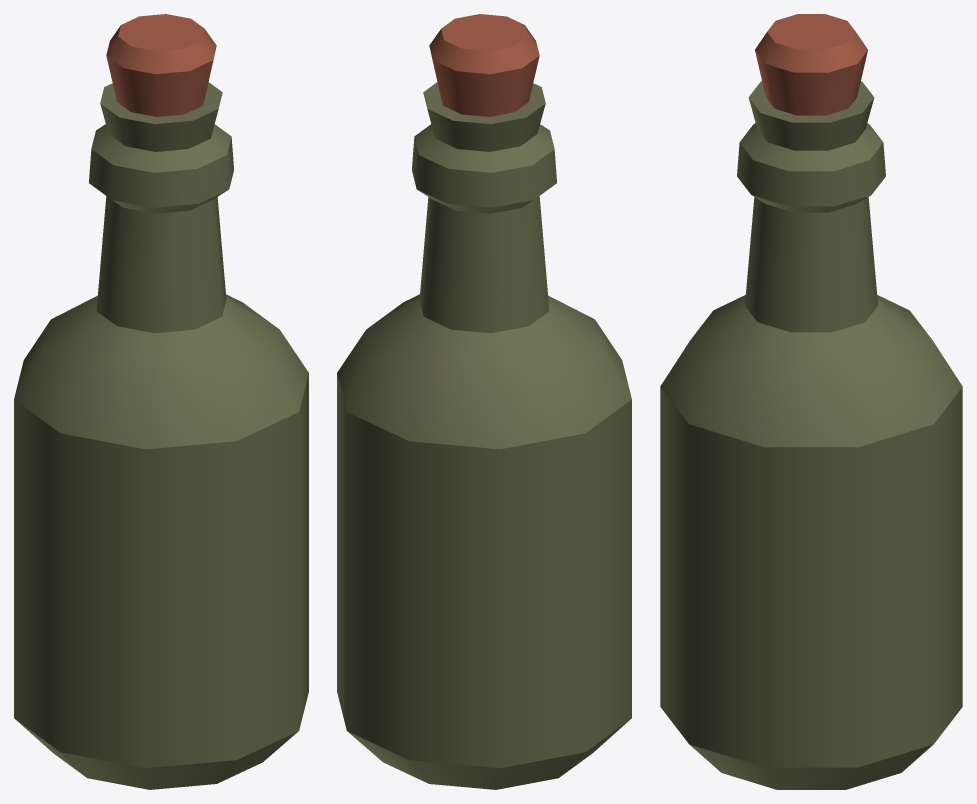
The model's file is Bottle_L.fbx.
3 views of the same model, side by side, from view 1: azimuth 30°, elevation 25°; view 2: azimuth 150°, elevation 25°; view 3: azimuth 270°, elevation 25° (orthographic).
Parts seen in each view (by area): view 1: Bottle_L; view 2: Bottle_L; view 3: Bottle_L.
Boxes of the visible parts, x1,y1,x2,y2 form: Bottle_L: (14, 14, 308, 789); Bottle_L: (337, 14, 631, 789); Bottle_L: (660, 14, 962, 789).
Size of the model in its own units: 17.89 by 48.92 by 18.81.
